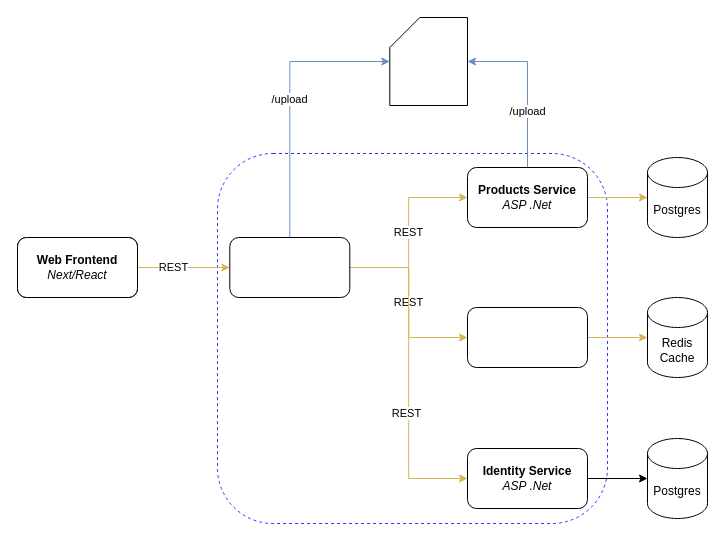
The diagram is 725 pixels wide and 541 high, and some of its shapes have lost their labels. The shapes that lost their labels are listed below. From the top down, each one's box as (x1, y1, x2, y2) in pixels, then its label:
(389, 16, 468, 106): Docker Volume smakownia-upload
(229, 236, 350, 298): API Gateway Ocelot Static files server
(216, 152, 608, 524): Docker Network(smakownia)
(466, 306, 588, 368): Basket Service ASP .Net
